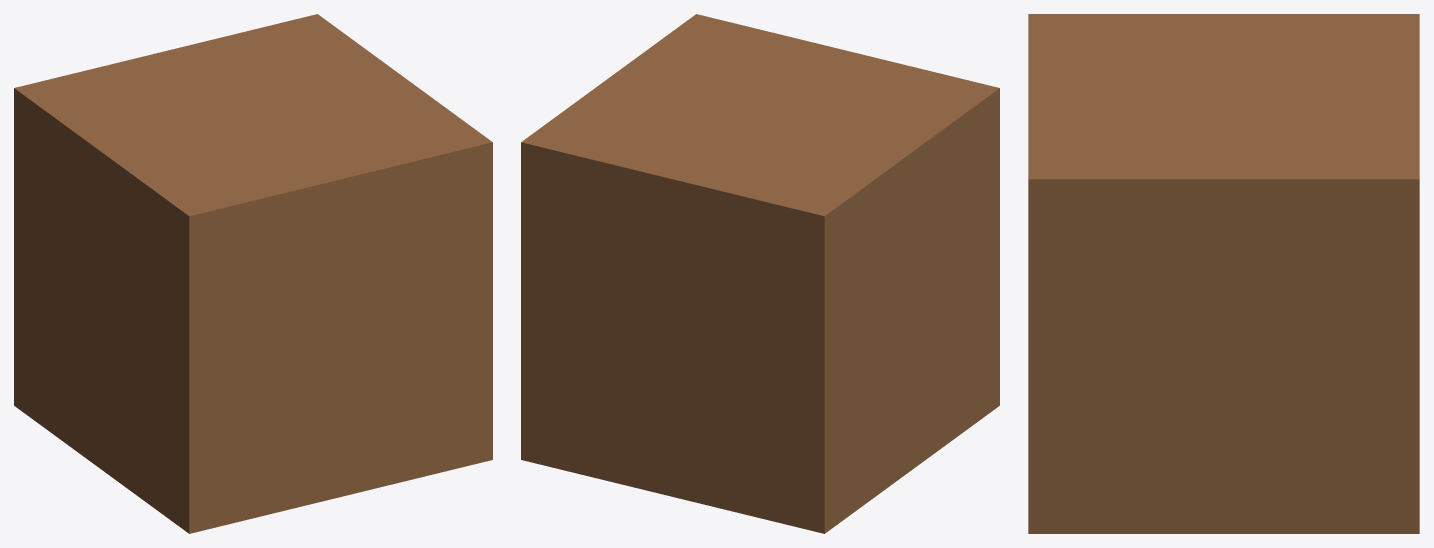
The model's file is WoodCrate.glb.
3 renders of one model, left to right at view 1: azimuth 30°, elevation 25°; view 2: azimuth 150°, elevation 25°; view 3: azimuth 270°, elevation 25°, orthographic. The views are drawn at different scales.
Visible parts, largest first — view 1: Crate; view 2: Crate; view 3: Crate.
Boxes of the visible parts, box(x1,y1,x2,y2) form: Crate: box(14, 14, 492, 533); Crate: box(521, 14, 999, 533); Crate: box(1028, 14, 1419, 533).
Bounding box in the file's own units: 1.2 × 1.2 × 1.2.
